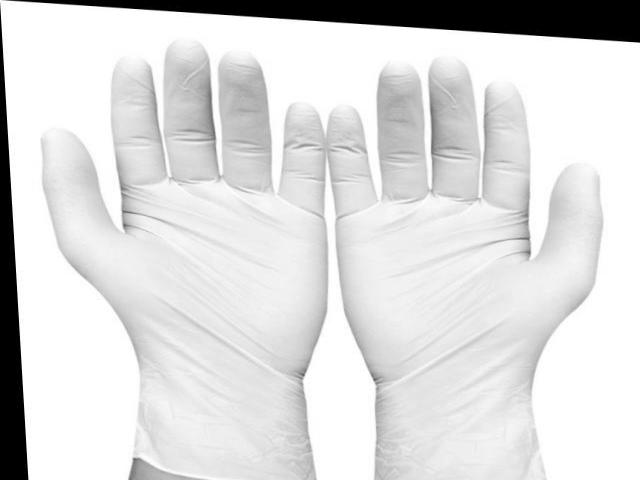gloved: (38, 33, 328, 377), (326, 55, 608, 392)
